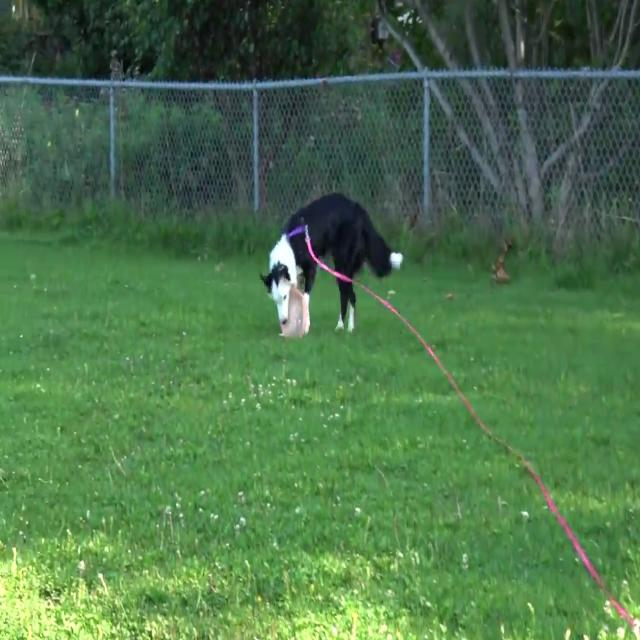Dog: (260, 192, 402, 332)
